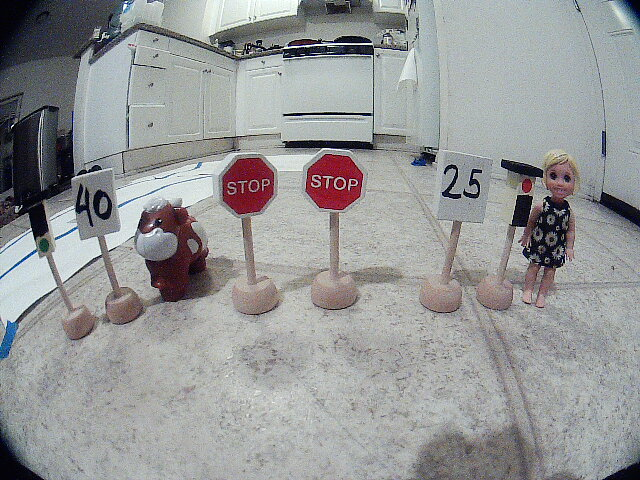Cow: (128, 195, 218, 308)
Green Traffic Light: (12, 199, 70, 267)
Person: (535, 141, 584, 329)
Speed Limit 25: (424, 141, 496, 234)
Speed Limit 40: (65, 169, 133, 244)
Stop Sign: (493, 145, 542, 332), (295, 136, 386, 229), (206, 147, 298, 238)
